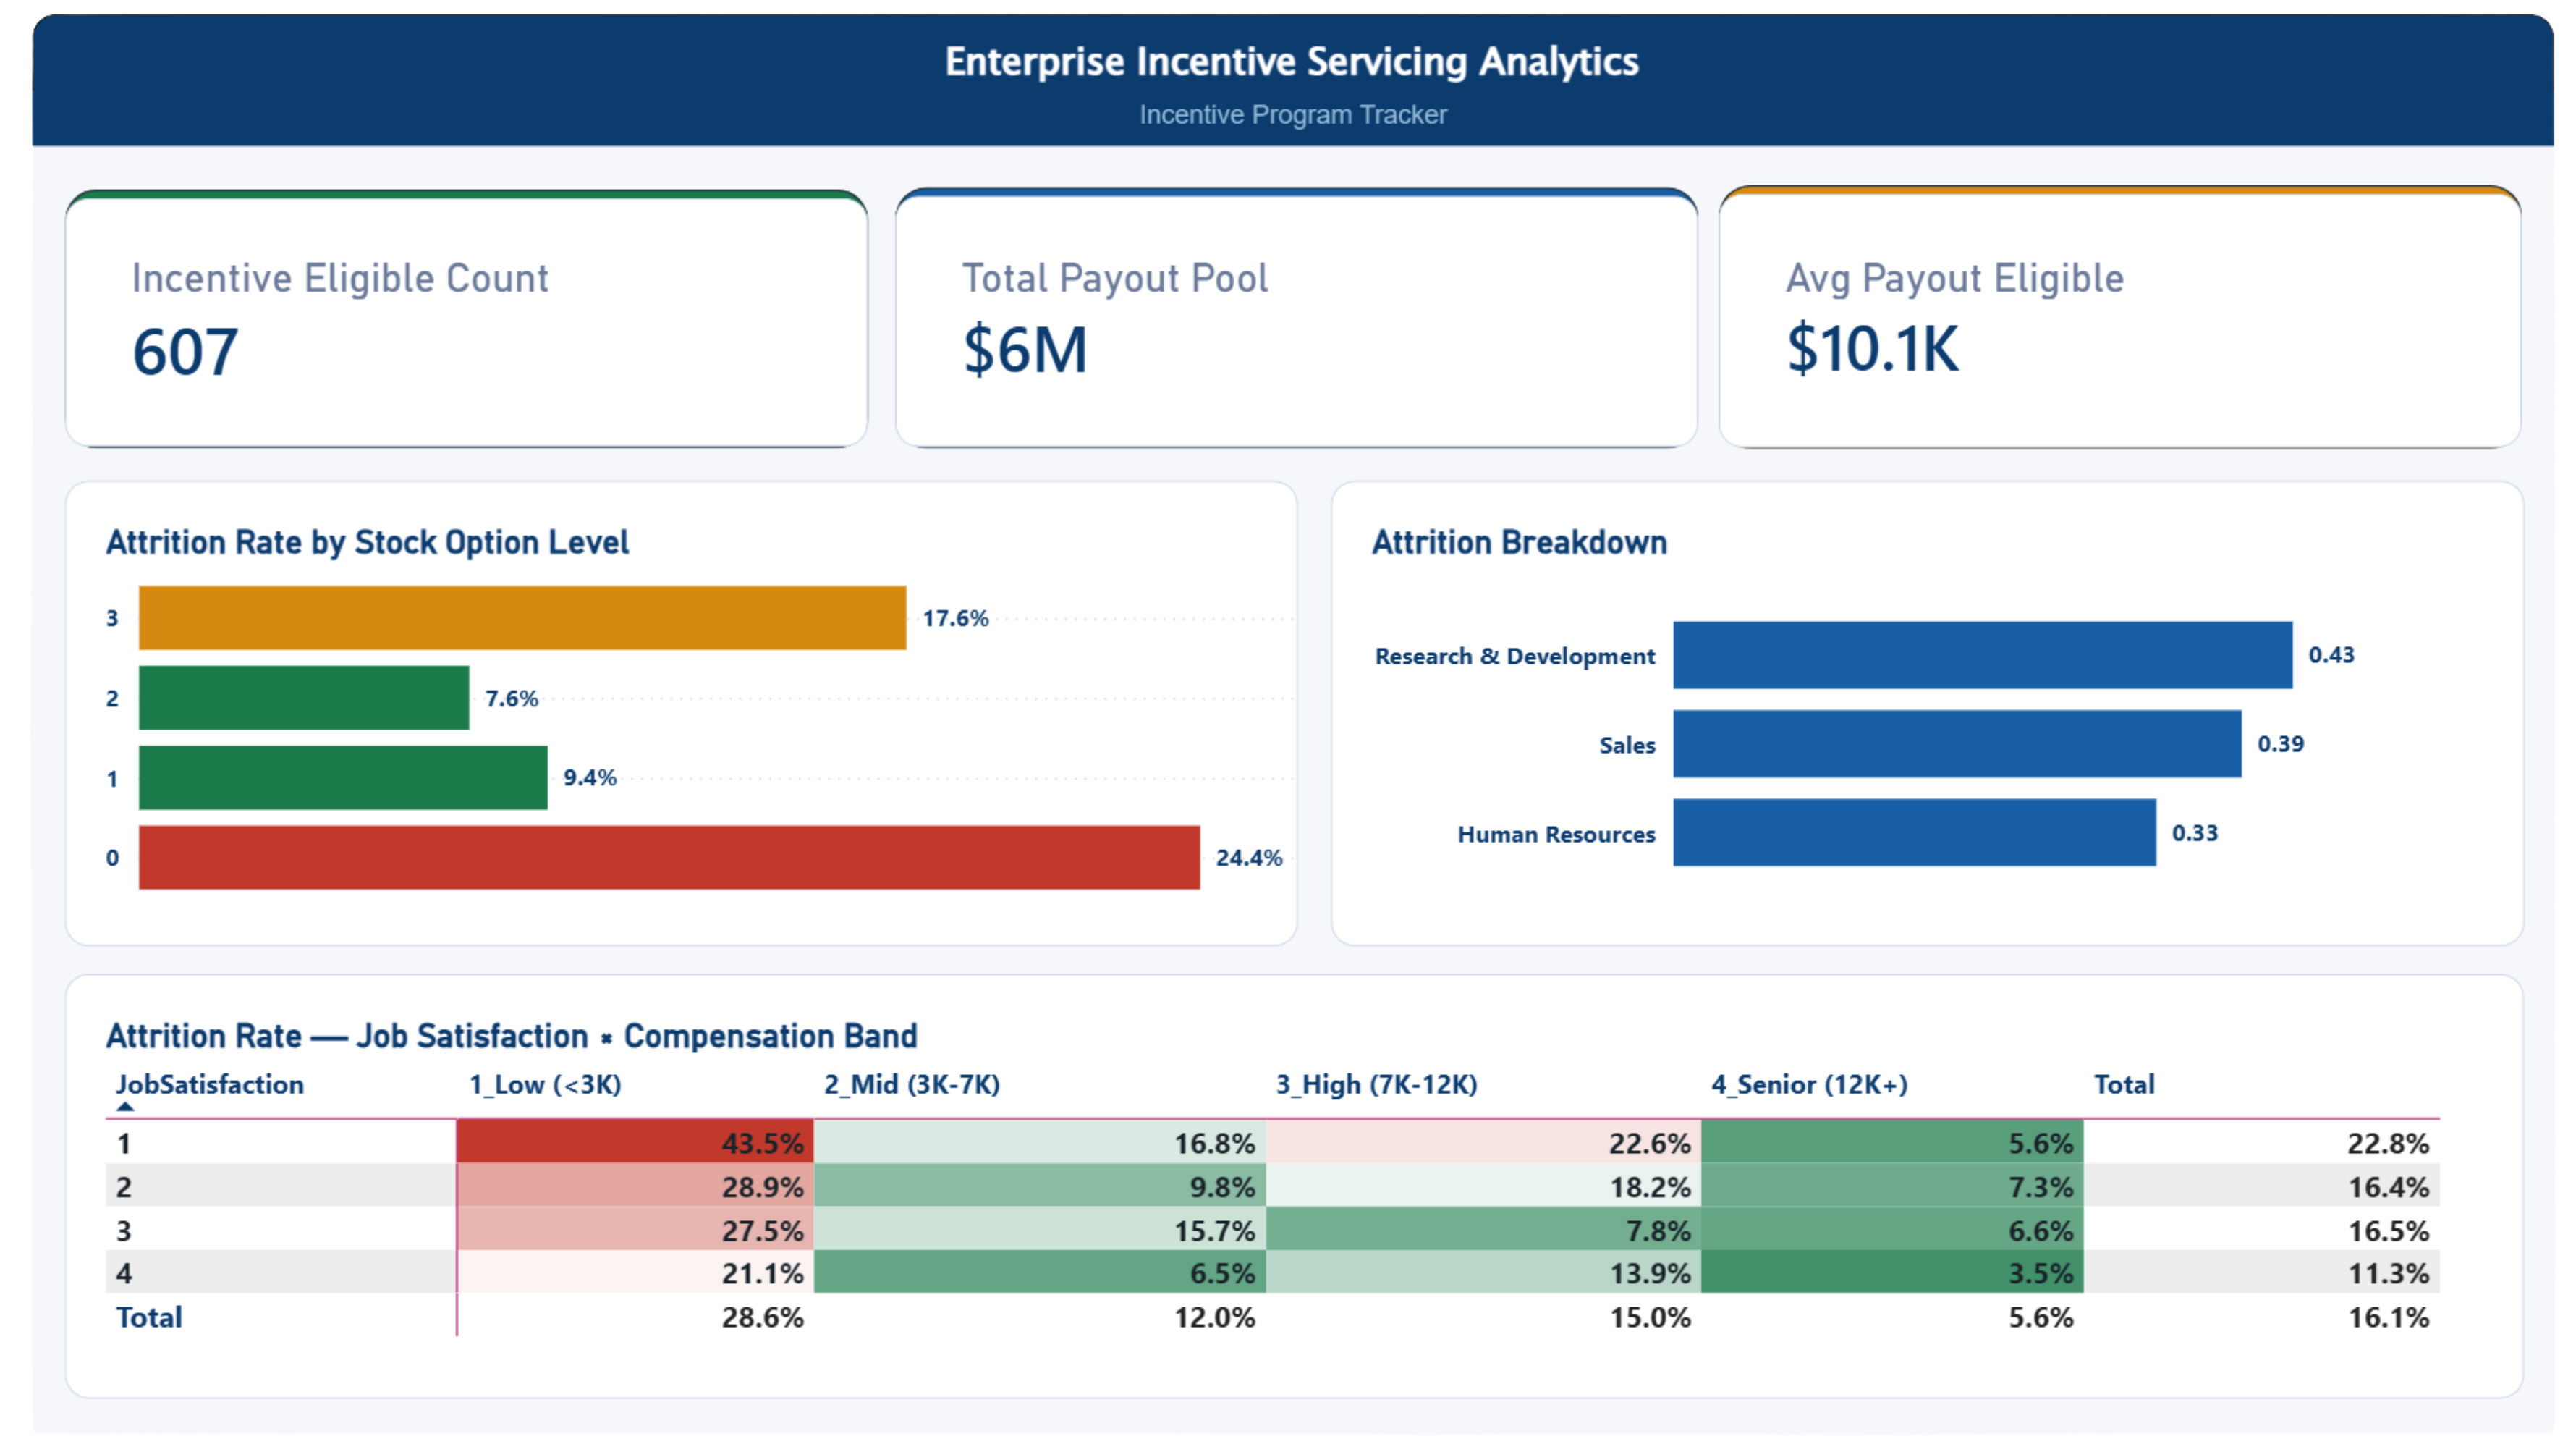

The page's visual inventory and layout, read from the dashboard file:
{"tool":"powerbi","page":{"name":"Incentive Program Tracker","canvas":[1280,720],"ordinal":2},"visuals":[{"type":"textbox","box":[0,0,1279.6,53],"z":0},{"type":"textbox","box":[0,38.5,1279.6,28.1],"z":1000},{"type":"shape","box":[16.2,88.8,407.5,131.2],"z":2000},{"type":"cardVisual","fields":{"Data":["_Measures.Incentive Eligible Count"]},"box":[16.2,93.8,407.5,126.2],"z":3000},{"type":"clusteredBarChart","title":"Attrition Breakdown","fields":{"Category":["Fact_Employee.Department"],"Y":["_Measures.Eligibility Rate by Dept"]},"box":[658.8,236.2,605,236.2],"z":4000},{"type":"pivotTable","title":"Attrition Rate — Job Satisfaction × Compensation Band","fields":{"Values":["_Measures.Attrition Rate"],"Rows":["Fact_Employee.JobSatisfaction"],"Columns":["Dim_CompBand.CompBand"]},"box":[16.2,486.2,1247.5,215],"z":5000},{"type":"shape","box":[437.5,87.5,407.5,132.5],"z":6000},{"type":"cardVisual","fields":{"Data":["_Measures.Total Payout Pool"]},"box":[437.5,92.5,407.5,127.5],"z":7000},{"type":"shape","box":[855,86.2,407.5,133.8],"z":8000},{"type":"cardVisual","fields":{"Data":["_Measures.Avg Payout Eligible"]},"box":[855,91.2,407.5,128.8],"z":9000},{"type":"clusteredBarChart","title":"Attrition Rate by Stock Option Level","fields":{"Y":["_Measures.Attrition Rate"],"Category":["Fact_Employee.StockOptionLevel"]},"box":[16.2,236.2,625,236.2],"z":10000}]}

Visuals, with their boxes in screenshot pixels (x1, y1, x2, y2), scaled from the page's 1280x720 canvas onto the 2576x1452 screenshot:
textbox: bbox=[0, 0, 2575, 107]
textbox: bbox=[0, 77, 2575, 135]
shape: bbox=[33, 179, 852, 444]
cardVisual - _Measures.Incentive Eligible Count: bbox=[33, 189, 852, 444]
"Attrition Breakdown" clusteredBarChart: bbox=[1326, 476, 2543, 953]
"Attrition Rate — Job Satisfaction × Compensation Band" pivotTable: bbox=[33, 981, 2543, 1414]
shape: bbox=[881, 177, 1700, 444]
cardVisual - _Measures.Total Payout Pool: bbox=[881, 187, 1700, 444]
shape: bbox=[1721, 174, 2541, 444]
cardVisual - _Measures.Avg Payout Eligible: bbox=[1721, 184, 2541, 444]
"Attrition Rate by Stock Option Level" clusteredBarChart: bbox=[33, 476, 1290, 953]
